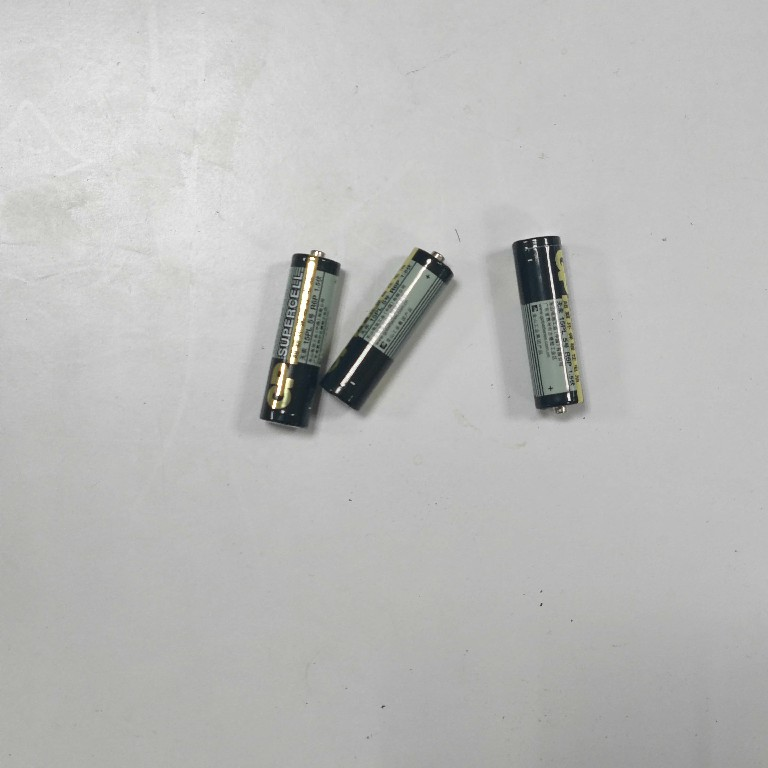charge: (318, 243, 455, 413), (258, 246, 344, 432), (507, 231, 584, 418)
